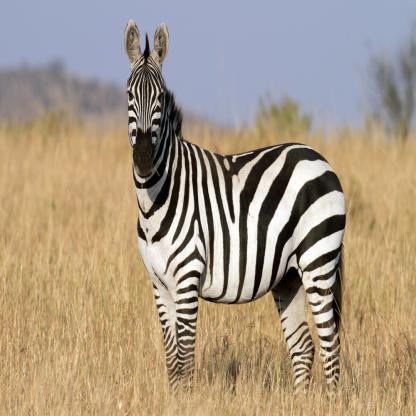zebra: (115, 24, 360, 378)
